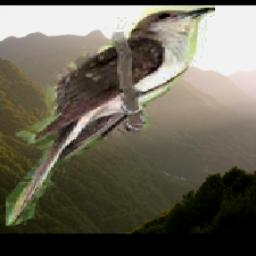Cuckoo: (6, 5, 215, 226)
